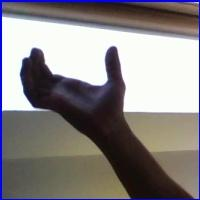space: (18, 42, 137, 130)
